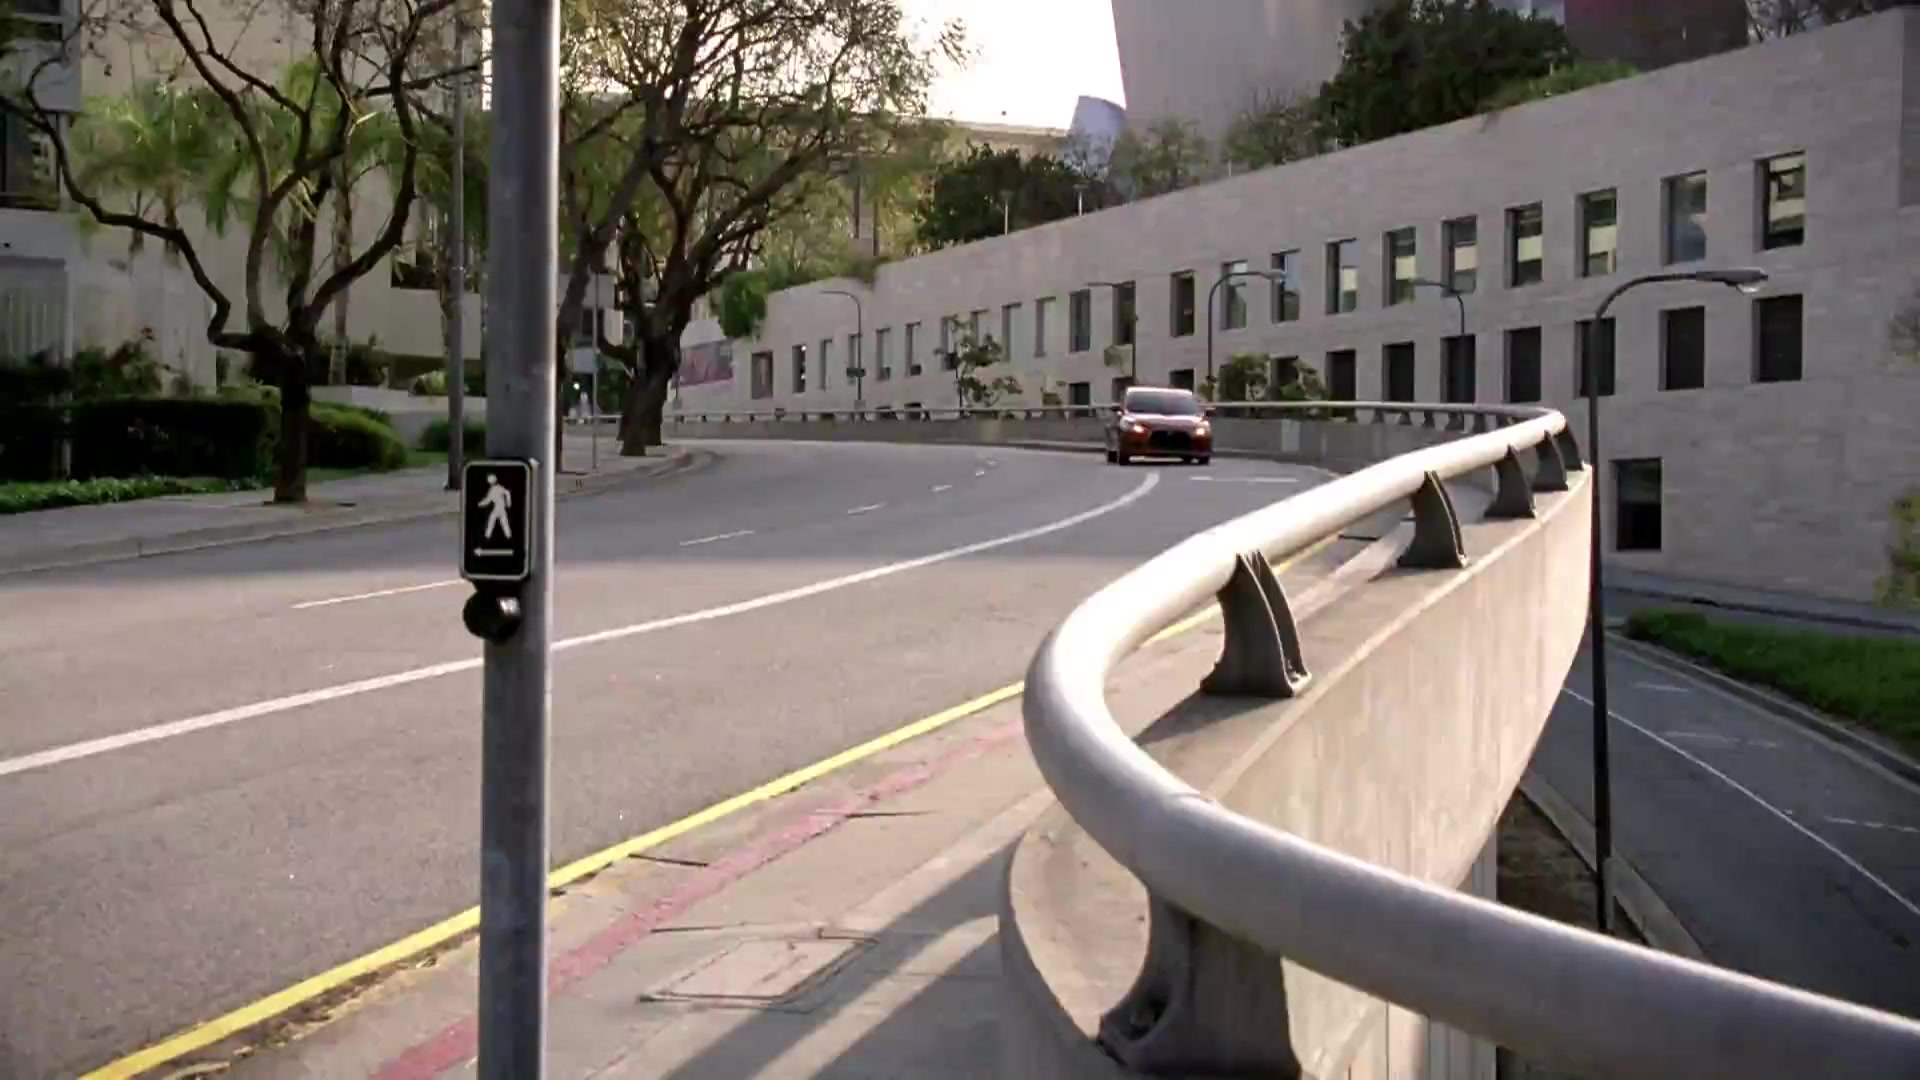car: (1100, 382, 1222, 469)
